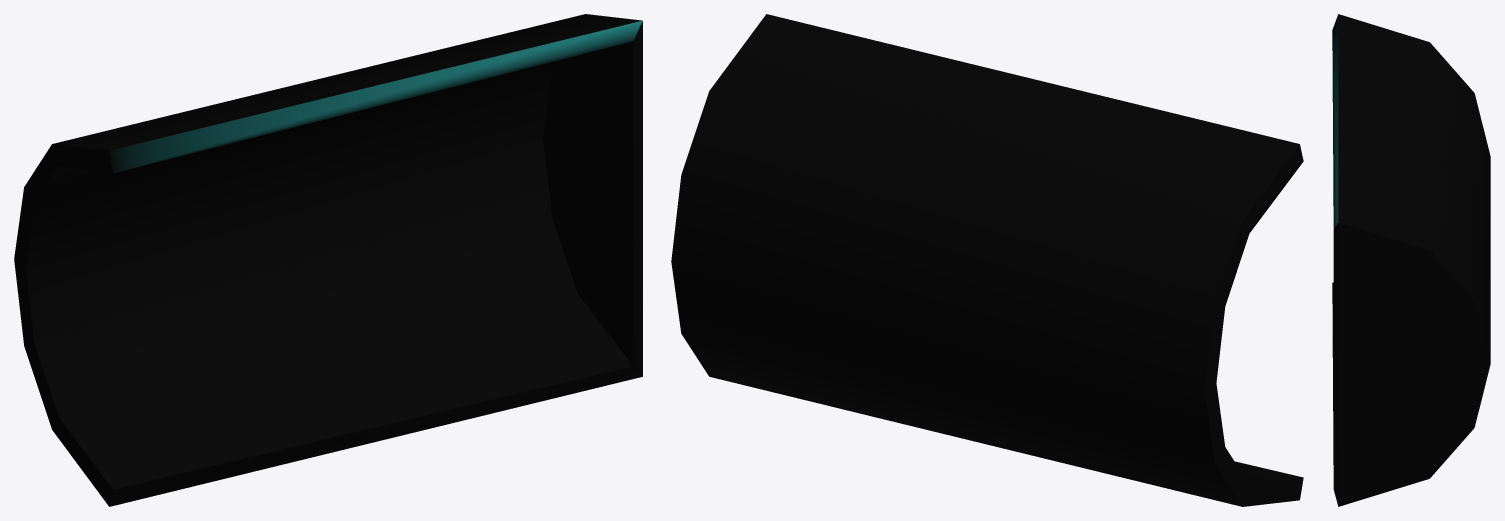
File: S_WEP_FX_ShotgunCasing_L.gltf
3 renders of one model, left to right at view 1: azimuth 30°, elevation 25°; view 2: azimuth 150°, elevation 25°; view 3: azimuth 270°, elevation 25°, orthographic. The views are drawn at different scales.
Visible parts, largest first — view 1: S_WEP_FX_ShotgunCasing_L; view 2: S_WEP_FX_ShotgunCasing_L; view 3: S_WEP_FX_ShotgunCasing_L.
Boxes of the visible parts, x1,y1,x2,y2 form: S_WEP_FX_ShotgunCasing_L: [14, 14, 642, 506]; S_WEP_FX_ShotgunCasing_L: [671, 14, 1303, 506]; S_WEP_FX_ShotgunCasing_L: [1332, 14, 1490, 506].
Size of the model in its own units: 0.0184 by 0.0117 by 0.00591.
